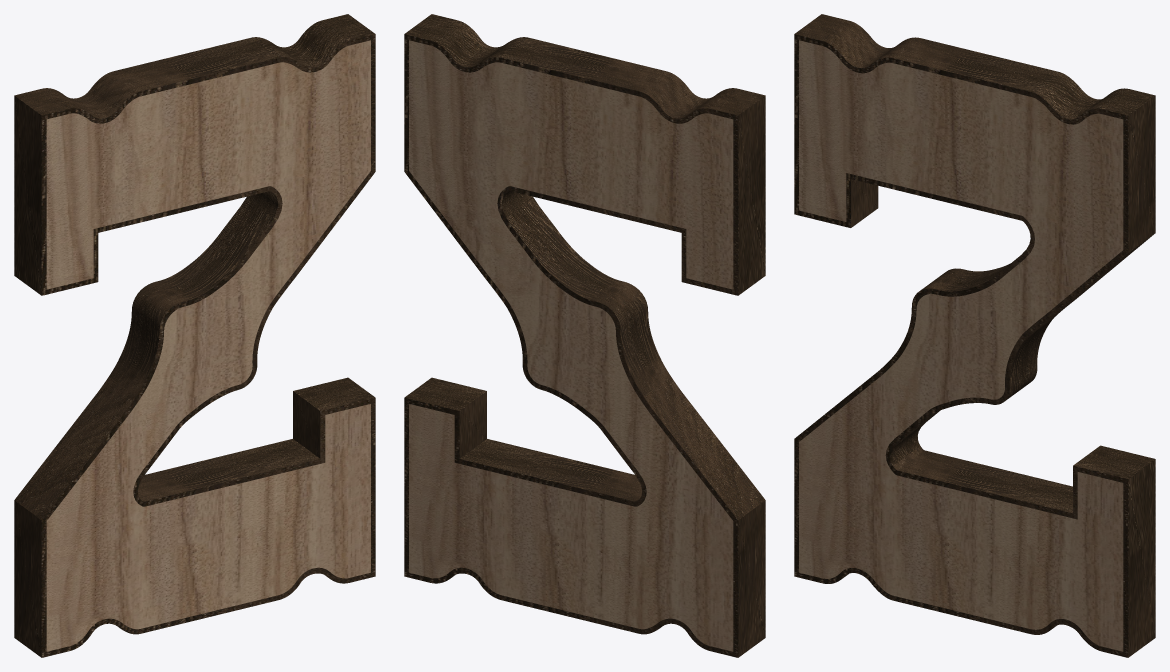
3 views of the same model, side by side, from view 1: azimuth 30°, elevation 25°; view 2: azimuth 150°, elevation 25°; view 3: azimuth 330°, elevation 25° (orthographic).
Visible parts, largest first — view 1: Z, Z_outline; view 2: Z, Z_outline; view 3: Z, Z_outline.
Boxes of the visible parts, left/top/right/bottom form: Z: left=46, top=40, right=370, bottom=651; Z_outline: left=14, top=14, right=375, bottom=657; Z: left=409, top=40, right=733, bottom=651; Z_outline: left=404, top=14, right=765, bottom=657; Z: left=799, top=40, right=1123, bottom=651; Z_outline: left=794, top=14, right=1155, bottom=657.
Size of the model in its own units: 70.1 by 109 by 10.
2 materials, 2 textured.
